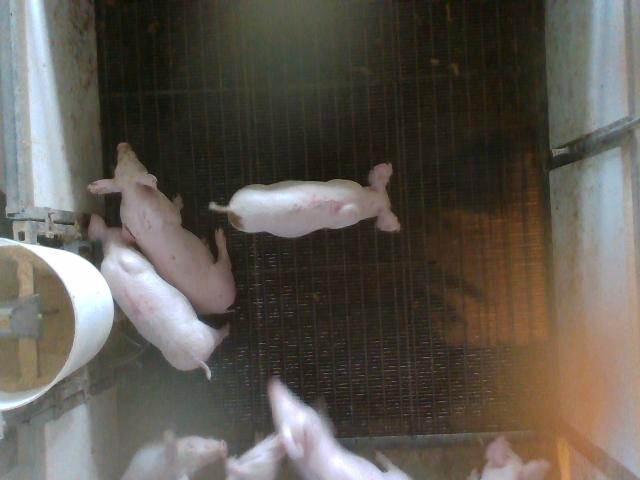pig-4: (89, 215, 229, 378)
pig-5: (209, 164, 400, 237)
